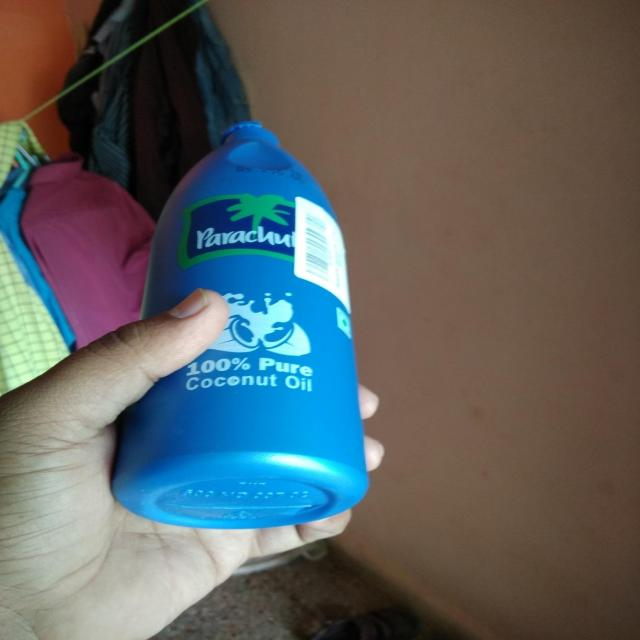parachute_oil: (124, 114, 382, 545)
